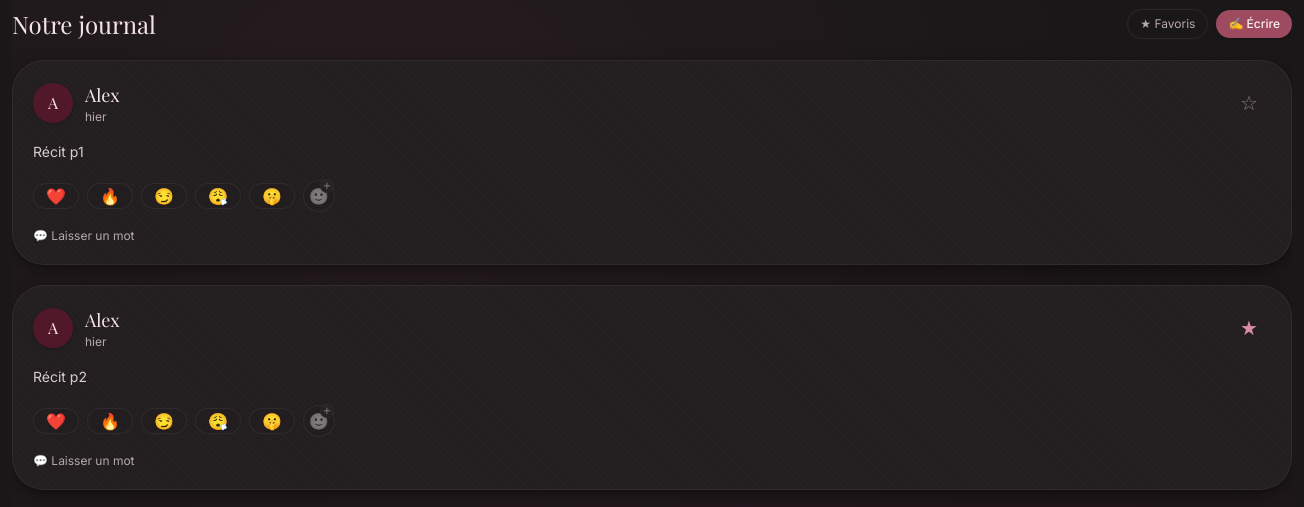
Scenario: BlogScreen › filtre Favoris (#96) : ne montre que les posts favoris, sinon message vide
Expected: the text "Récit p1" is shown, [33,143,84,160]
Expected: the text "Récit p2" is shown, [33,368,87,385]
// Active le filtre Favoris.
What coordinates should you click on to do the following:
click the button "★ Favoris"
I would click on:
 (1168, 24)
Its box is [1127,9,1208,39].
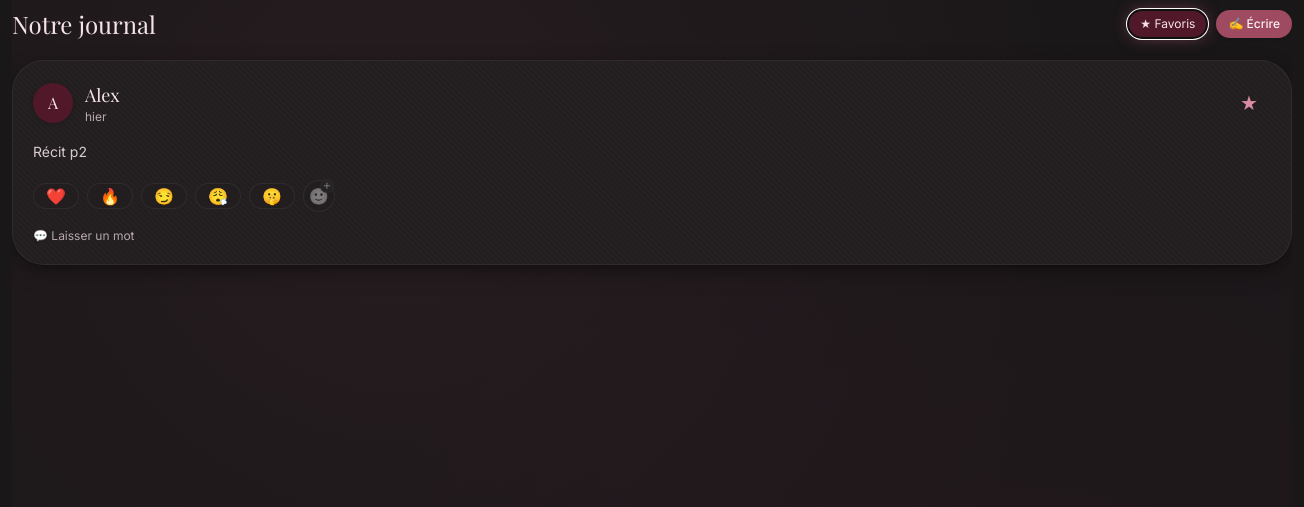
Expected: the text "Récit p2" is shown, [33,143,87,160]
Expected: the text "Récit p1" is gone
